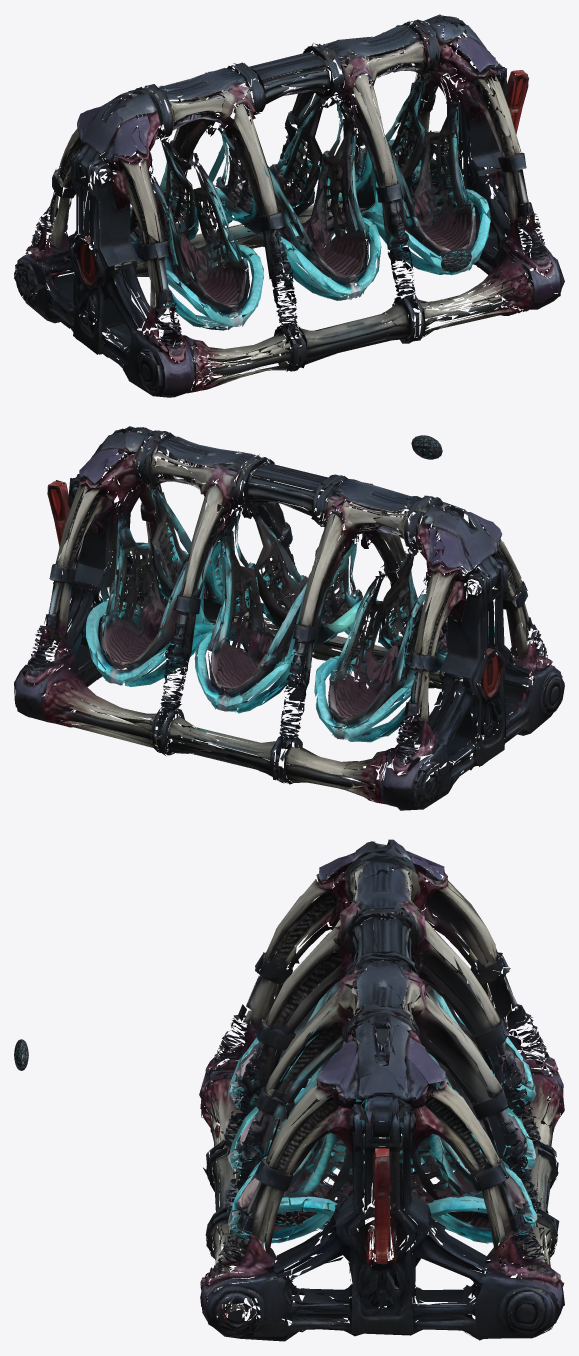
File: evac_egg_coldchain_harness.glb
3 renders of one model, top to bottom at view 1: azimuth 30°, elevation 25°; view 2: azimuth 150°, elevation 25°; view 3: azimuth 270°, elevation 25°, orthographic. The views are drawn at different scales.
Parts seen in each view (by area): view 1: node_0, HB_PULSE_00; view 2: node_0, HB_PULSE_00; view 3: node_0.
Boxes of the visible parts, <box> form: node_0: <box>14,14,564,397</box>; HB_PULSE_00: <box>441,248,471,272</box>; node_0: <box>14,426,564,810</box>; HB_PULSE_00: <box>411,435,442,459</box>; node_0: <box>199,839,564,1341</box>.
Bounding box in the file's own units: 0.9907 × 0.5443 × 0.8987.
Materials: 1 (1 with a texture image).
